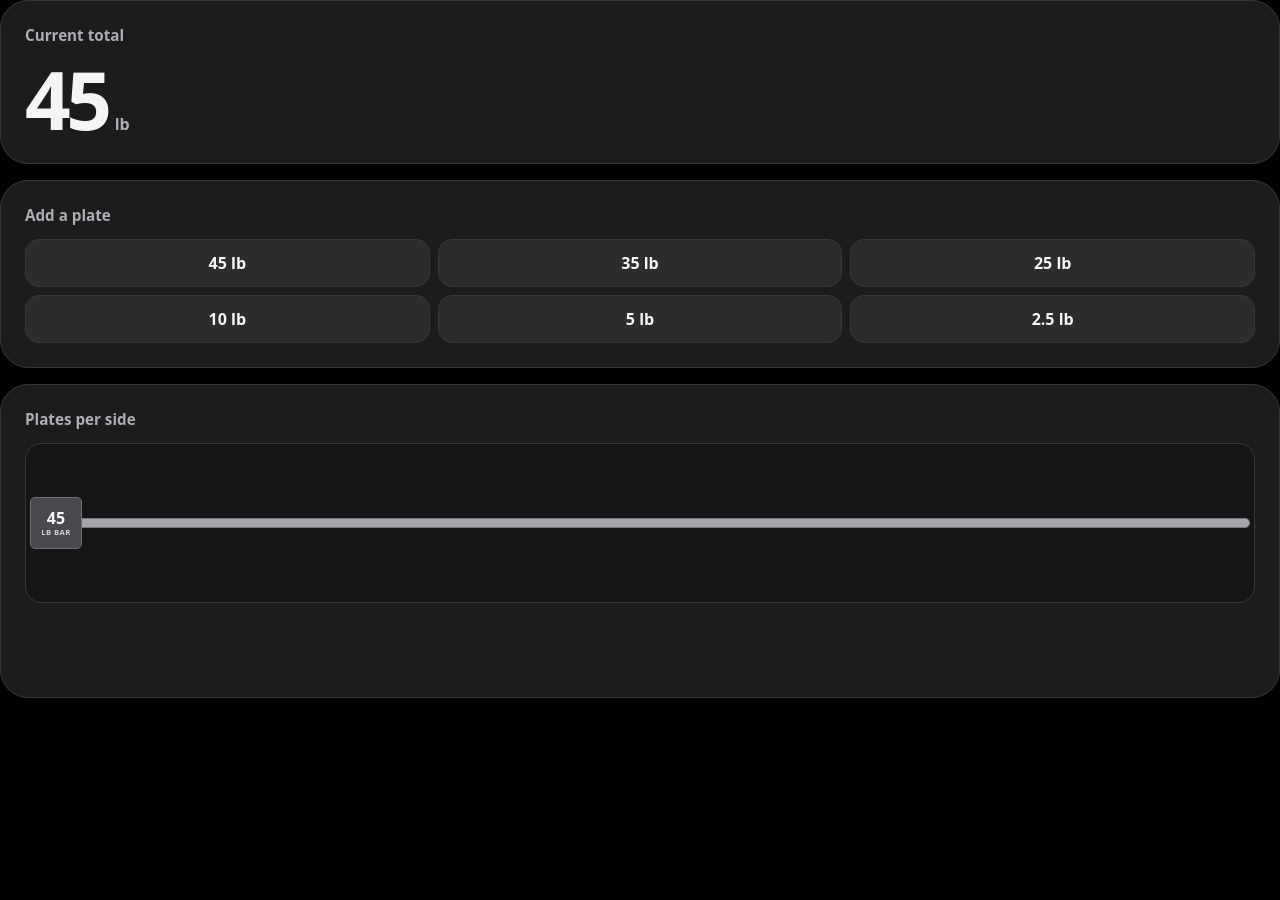
Test case: Slice 003 Plates to Total Weight calculator › S3-AC-007 removes exactly one duplicate and updates the total
Step 1. Click the button with aria-label "Add 45 lb plate" → [227, 263], box top-left (25, 239), bottom-right (430, 287)
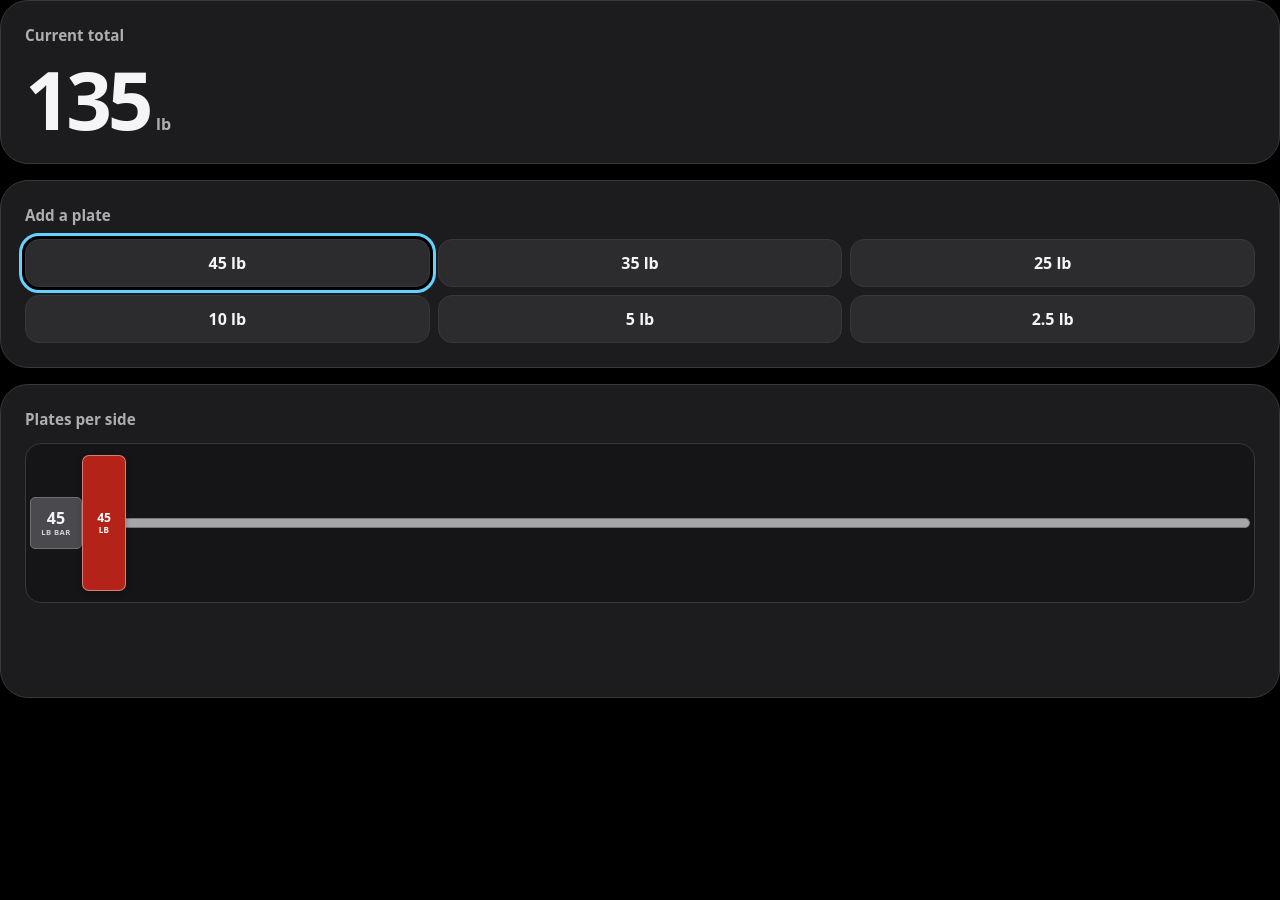
Step 2. Click the button with aria-label "Add 45 lb plate" → [227, 263], box top-left (25, 239), bottom-right (430, 287)
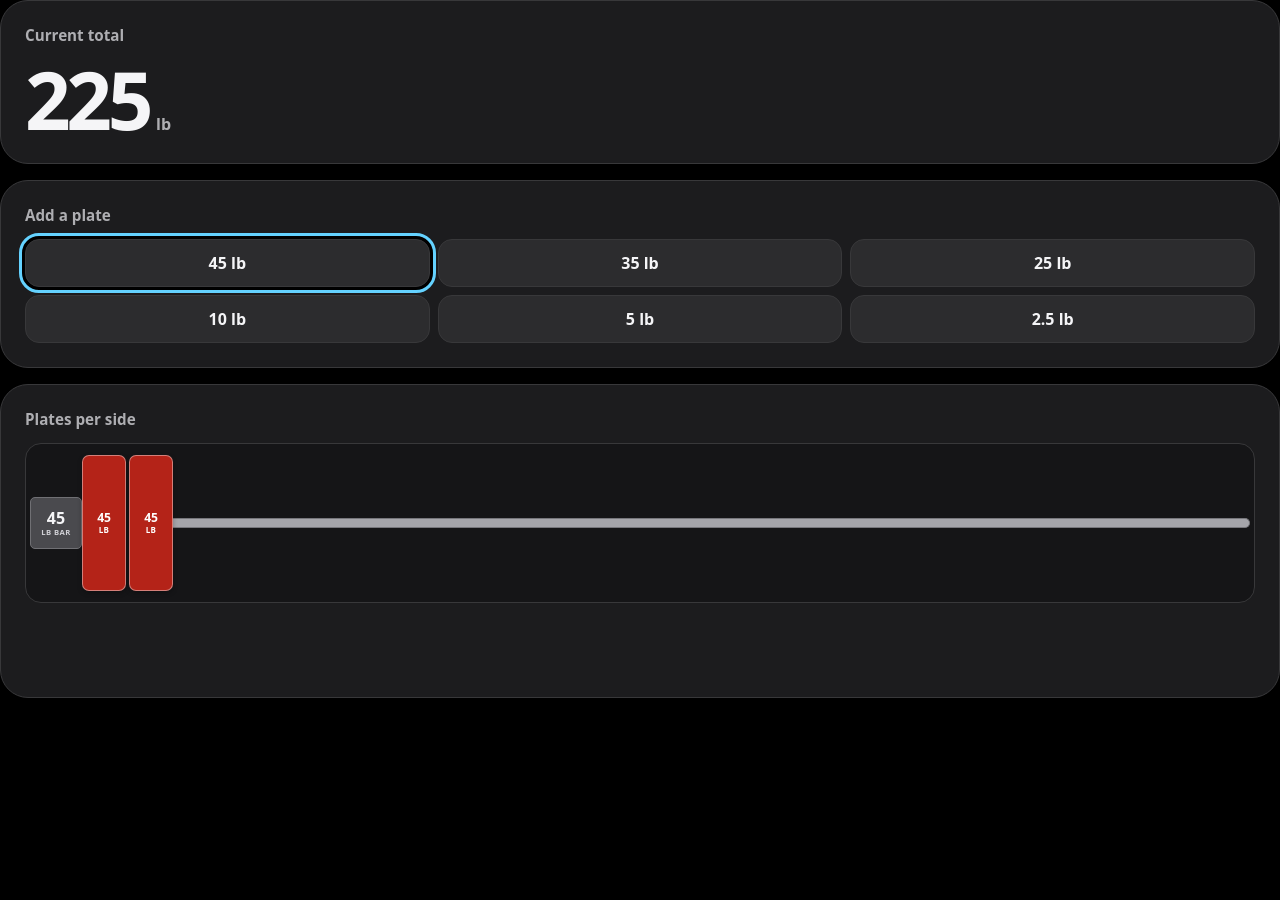
Step 3. Click the button with aria-label "Add 10 lb plate" → [227, 319], box top-left (25, 295), bottom-right (430, 343)
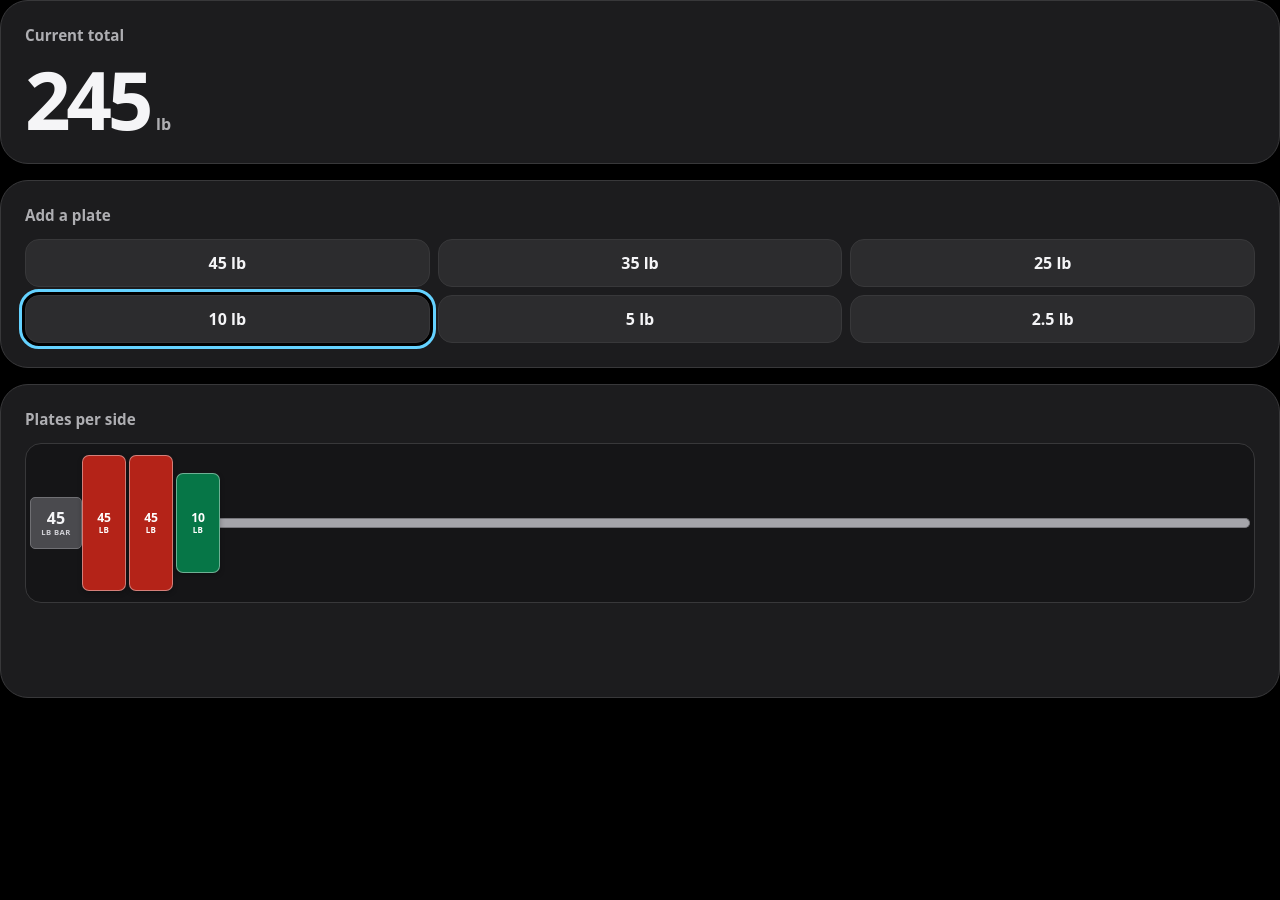
Step 4. Click the button with aria-label "Remove 45 lb plate" → [104, 523], box top-left (82, 455), bottom-right (126, 591)
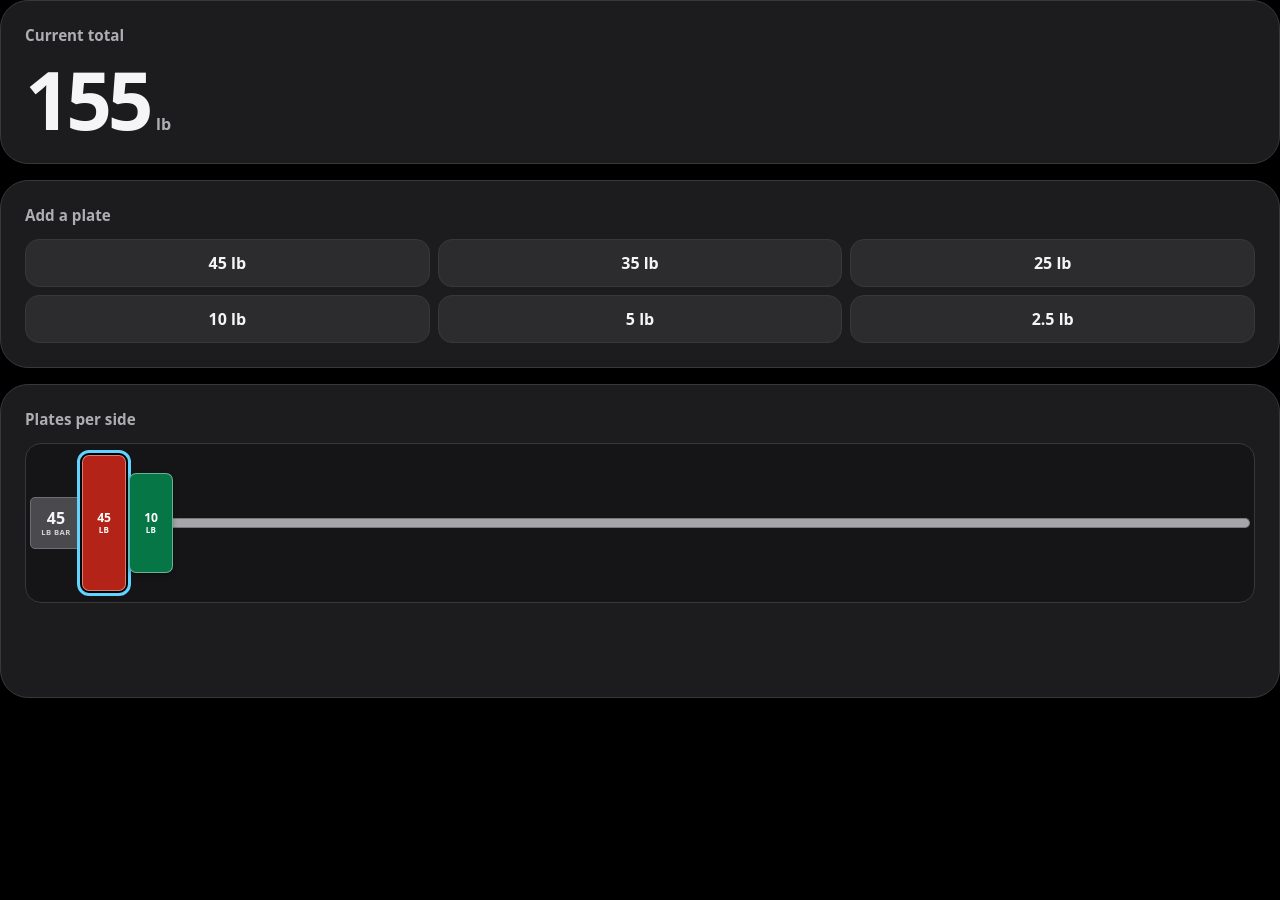
Result: the number of buttons named "Remove 45 lb plate" is 1 at top-left (82, 455), bottom-right (126, 591)
Result: the number of buttons named "Remove 10 lb plate" is 1 at top-left (129, 473), bottom-right (173, 573)
